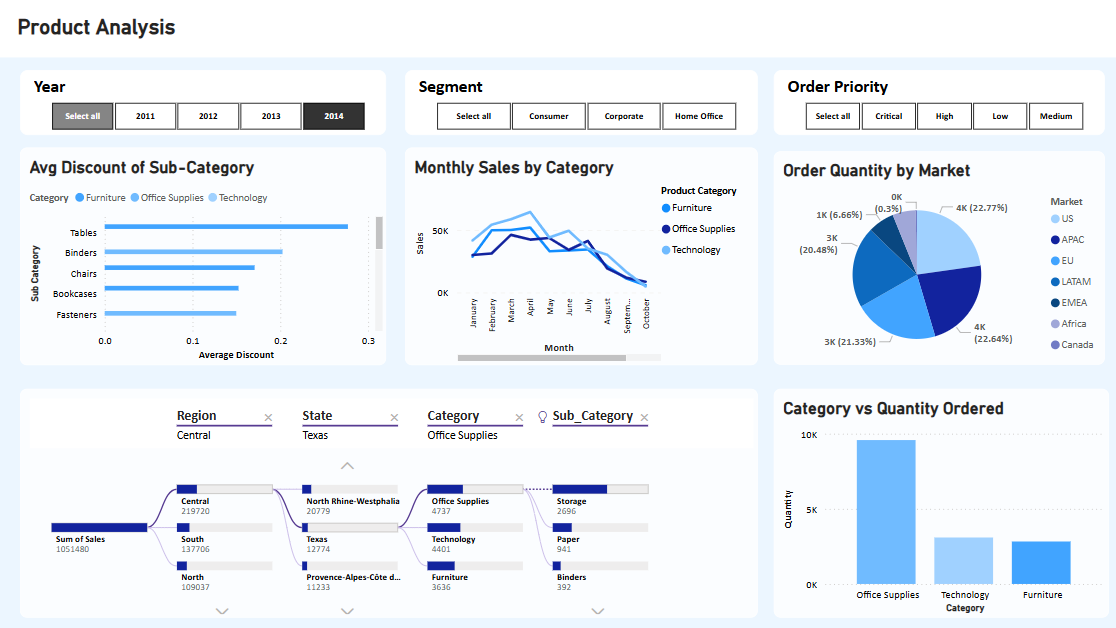

This screenshot's page, from the dashboard's own definition file:
{"tool":"powerbi","page":{"name":"ProductAnanlysis","canvas":[1280,720],"ordinal":1},"visuals":[{"type":"textbox","title":"Product Analysis Dashboard","box":[0,0,1280,65.7],"z":1000},{"type":"slicer","title":"Year","fields":{"Values":["SuperStoreOrders2.order_date.Variation.Date Hierarchy.Year"]},"box":[22.9,80,418.6,74.3],"z":2000},{"type":"slicer","title":"Segment","fields":{"Values":["SuperStoreOrders2.segment"]},"box":[462.9,80,402.9,74.3],"z":3000},{"type":"decompositionTreeVisual","fields":{"ExplainBy":["SuperStoreOrders2.region","SuperStoreOrders2.State","SuperStoreOrders2.category","SuperStoreOrders2.Sub_Category"],"Analyze":["Sum(SuperStoreOrders2.Sales)"]},"box":[22.9,444.3,842.9,261.4],"z":4000},{"type":"clusteredBarChart","title":"Avg Discount of Sub-Category","fields":{"Y":["Avg(SuperStoreOrders2.discount)"],"Category":["SuperStoreOrders2.Sub_Category"],"Series":["SuperStoreOrders2.category"]},"box":[22.9,168.6,418.6,248.6],"z":5000},{"type":"columnChart","title":"Category vs Quantity Ordered","fields":{"Y":["Sum(SuperStoreOrders2.quantity)"],"Category":["SuperStoreOrders2.category"]},"box":[884.3,444.3,382.9,261.4],"z":6000},{"type":"lineChart","title":"Monthly Sales by Category","fields":{"Y":["Sum(SuperStoreOrders2.sales)"],"Category":["SuperStoreOrders2.order_date.Variation.Date Hierarchy.Month"],"Series":["SuperStoreOrders2.category"]},"box":[462.9,168.6,402.9,248.6],"z":7000},{"type":"pieChart","title":"Order Quantity by Market","fields":{"Category":["SuperStoreOrders2.Market"],"Y":["Sum(SuperStoreOrders2.quantity)"]},"box":[884.3,172.9,378.6,244.3],"z":8000},{"type":"slicer","title":"Order Priority","fields":{"Values":["SuperStoreOrders2.order_priority"]},"box":[884.3,80,378.6,74.3],"z":9000}]}

Visuals, with their boxes in screenshot pixels (x1, y1, x2, y2), scaled from the page's 1280x720 canvas onto the 1116x628 screenshot:
"Product Analysis Dashboard" textbox: [0, 0, 1115, 57]
"Year" slicer: [20, 70, 385, 135]
"Segment" slicer: [404, 70, 755, 135]
decompositionTreeVisual - SuperStoreOrders2.region x SuperStoreOrders2.State: [20, 388, 755, 616]
"Avg Discount of Sub-Category" clusteredBarChart: [20, 147, 385, 364]
"Category vs Quantity Ordered" columnChart: [771, 388, 1105, 616]
"Monthly Sales by Category" lineChart: [404, 147, 755, 364]
"Order Quantity by Market" pieChart: [771, 151, 1101, 364]
"Order Priority" slicer: [771, 70, 1101, 135]
